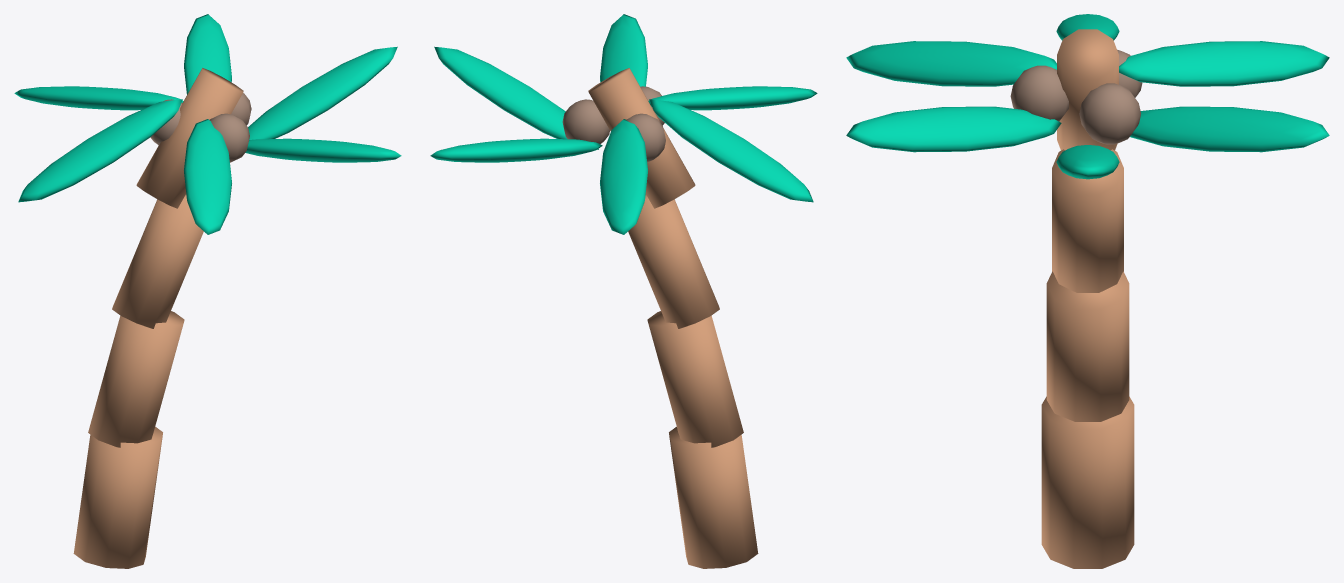
Rendered from prop_palm_tree.glb.
3 views of the same model, side by side, from view 1: azimuth 30°, elevation 25°; view 2: azimuth 150°, elevation 25°; view 3: azimuth 270°, elevation 25° (orthographic). The views are drawn at different scales.
Parts seen in each view (by area): view 1: prop_palm_tree; view 2: prop_palm_tree; view 3: prop_palm_tree.
Part boxes in pixels (box(x1,y1,x2,y2)): prop_palm_tree: box(14, 14, 401, 568); prop_palm_tree: box(430, 14, 817, 568); prop_palm_tree: box(846, 14, 1329, 568).
Size of the model in its own units: 2.12 by 2.48 by 1.87.
